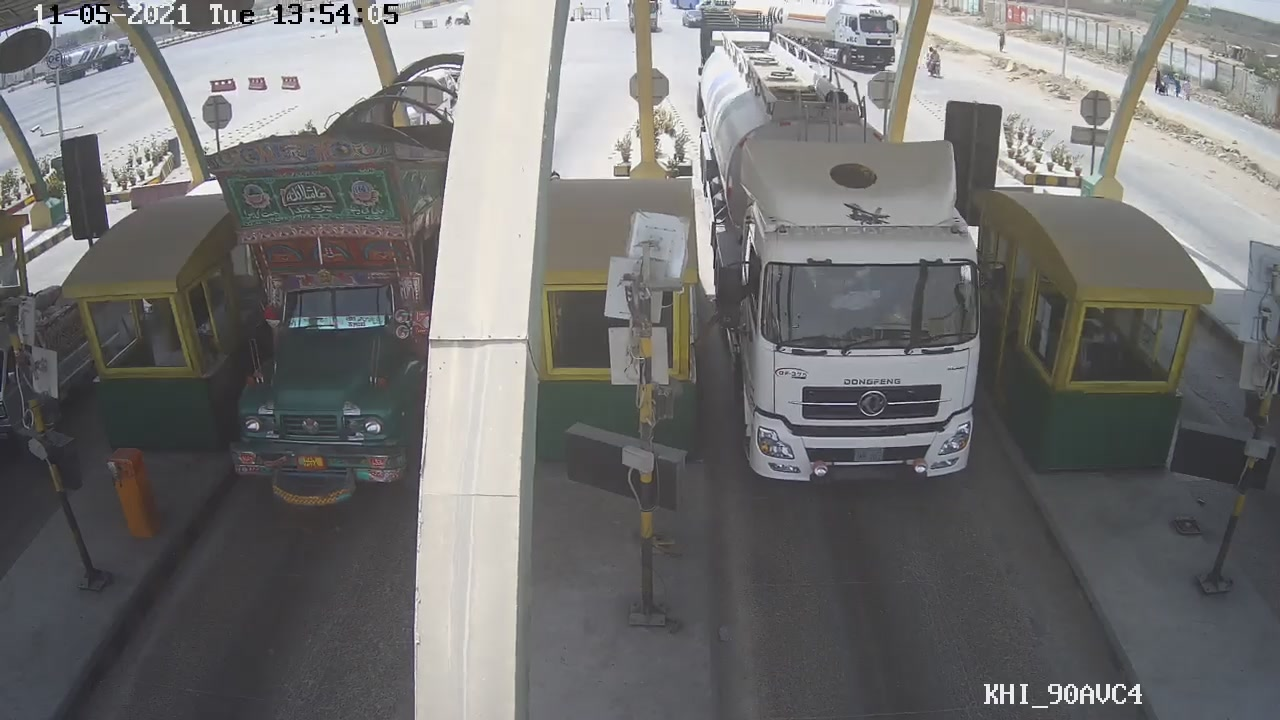F6: (708, 88, 989, 491)
